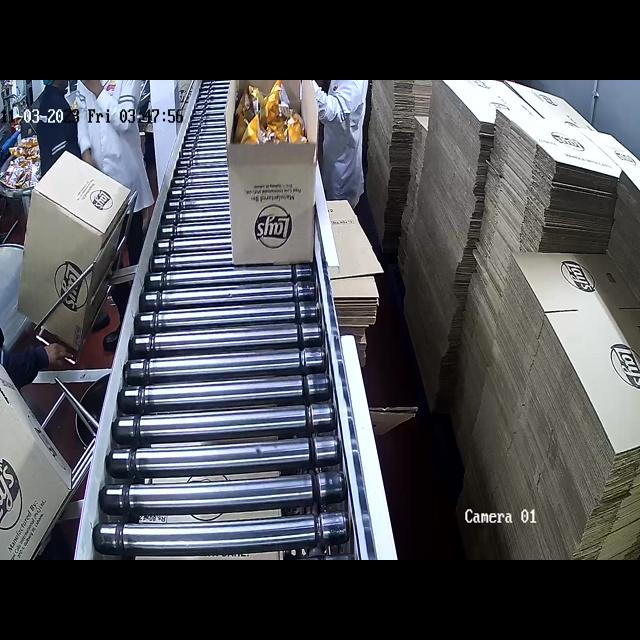cheese: (237, 82, 310, 147)
